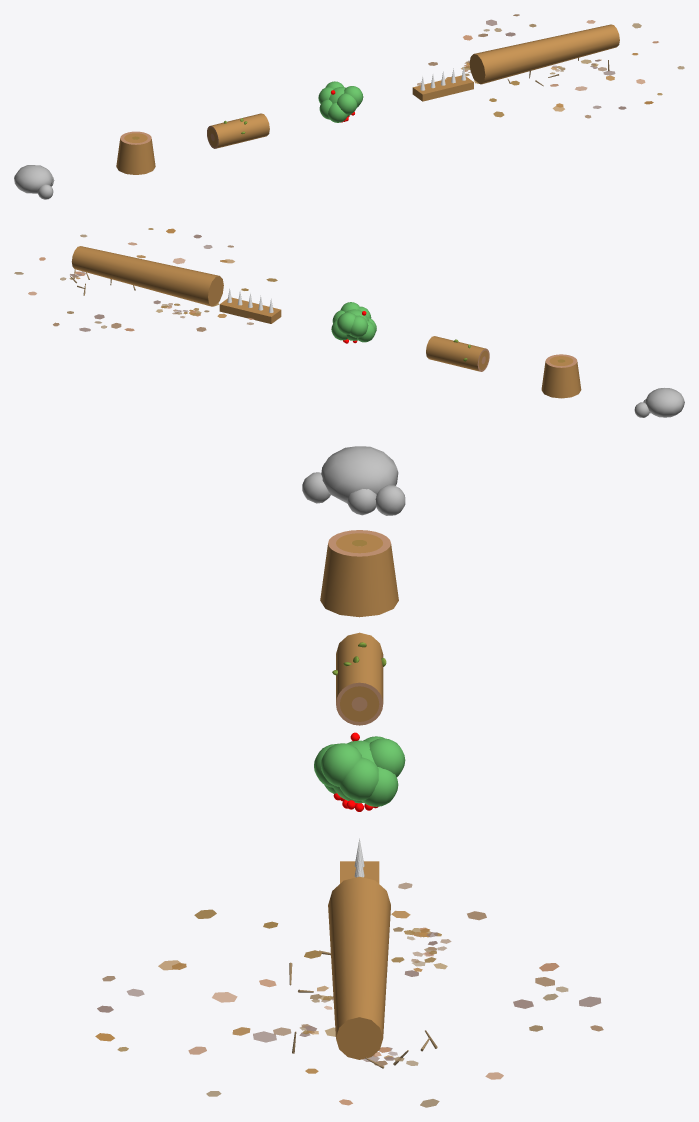
File: obstacles_classic_mobile.glb
The picture shows the model from 3 angles, top to bottom: view 1: azimuth 30°, elevation 25°; view 2: azimuth 150°, elevation 25°; view 3: azimuth 270°, elevation 25°; orthographic projection. The views are drawn at different scales.
Visible parts, largest first — view 1: fallenTree_mesh, log_mesh, treeStump_mesh, spikes_mesh, rock_mesh, bush_mesh; view 2: fallenTree_mesh, log_mesh, treeStump_mesh, rock_mesh, spikes_mesh, bush_mesh (×2); view 3: fallenTree_mesh, treeStump_mesh, bush_mesh (×3), log_mesh (×2), rock_mesh.
Boxes of the visible parts, x1,y1,x2,y2 form: fallenTree_mesh: (469,24,619,84); log_mesh: (210,113,269,148); treeStump_mesh: (116,138,155,174); spikes_mesh: (412,75,473,101); rock_mesh: (14,165,52,193); bush_mesh: (337,93,357,114); fallenTree_mesh: (71,246,223,306); log_mesh: (426,336,485,371); treeStump_mesh: (541,361,581,398); rock_mesh: (645,388,684,417); spikes_mesh: (219,297,281,323); bush_mesh (×2): (337,312,368,337); fallenTree_mesh: (328,876,390,1059); treeStump_mesh: (320,544,398,617); bush_mesh (×3): (320,738,405,800); log_mesh (×2): (336,632,383,721); rock_mesh: (321,446,398,503).
Size of the model in its own units: 18.79 by 0.9819 by 6.45.
